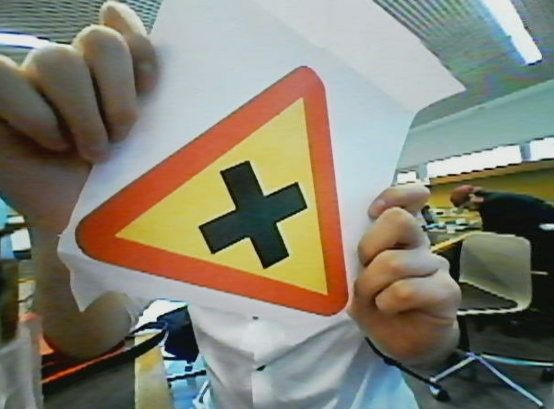junction: (69, 68, 347, 317)
